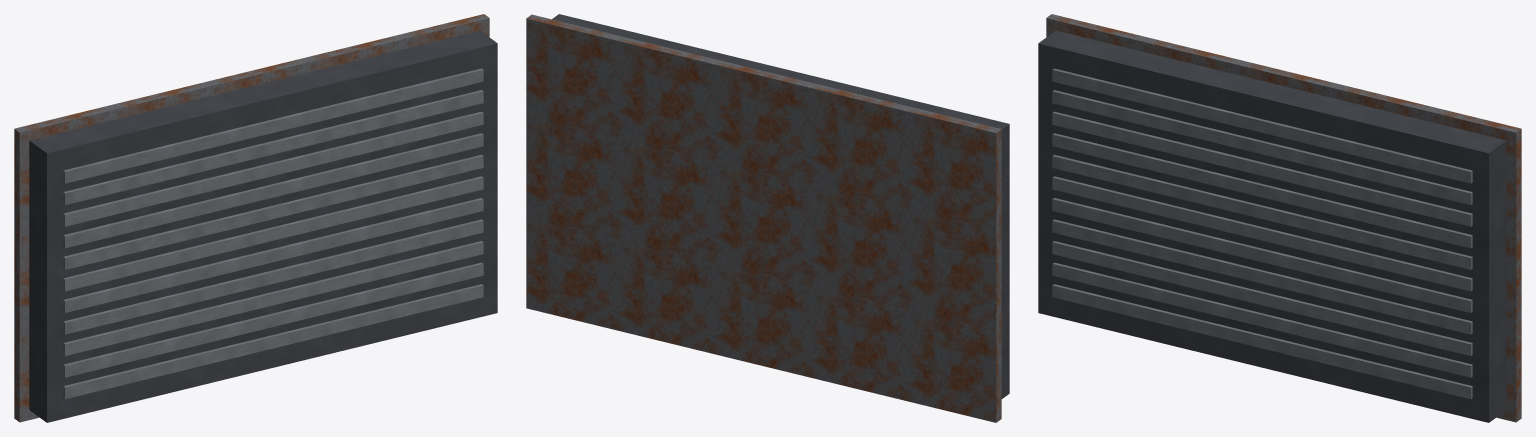
Rendered from wall_vent.obj.
The picture shows the model from 3 angles, left to right: view 1: azimuth 30°, elevation 25°; view 2: azimuth 150°, elevation 25°; view 3: azimuth 330°, elevation 25°; orthographic projection.
Parts seen in each view (by area): view 1: wall_vent; view 2: wall_vent; view 3: wall_vent.
Part boxes in pixels (x1=…): wall_vent: x1=14, y1=14, x2=497, y2=422; wall_vent: x1=526, y1=14, x2=1009, y2=422; wall_vent: x1=1038, y1=14, x2=1521, y2=422.
Bounding box in the file's own units: 1.46 × 0.86 × 0.135.
